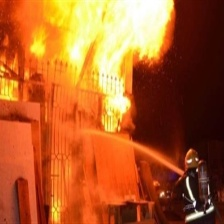fire: (48, 1, 181, 129), (1, 64, 26, 101)
